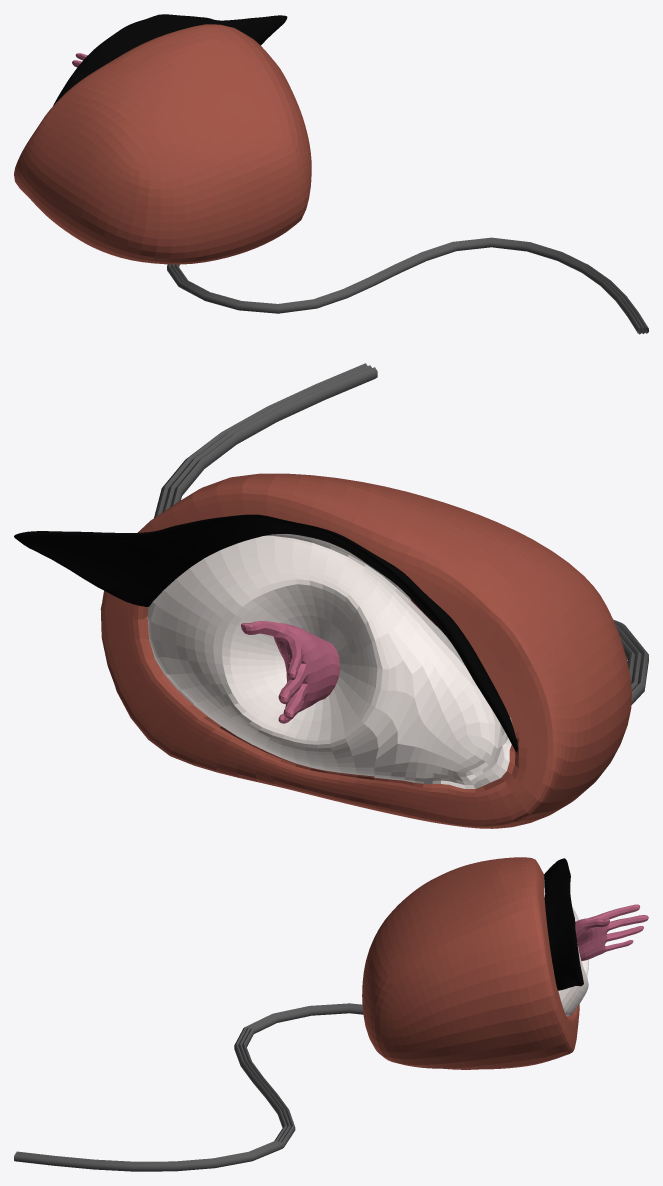
File: Pc_Drug.fbx
3 renders of one model, top to bottom at view 1: azimuth 30°, elevation 25°; view 2: azimuth 150°, elevation 25°; view 3: azimuth 270°, elevation 25°, orthographic. The views are drawn at different scales.
Visible parts, largest first — view 1: EyePC_GEO; view 2: EyePC_GEO; view 3: EyePC_GEO.
Boxes of the visible parts, x1=… form: EyePC_GEO: x1=14, y1=14, x2=648, y2=334; EyePC_GEO: x1=14, y1=363, x2=648, y2=828; EyePC_GEO: x1=14, y1=857, x2=648, y2=1171.
Bounding box in the file's own units: 0.5412 × 0.2321 × 0.7422.
